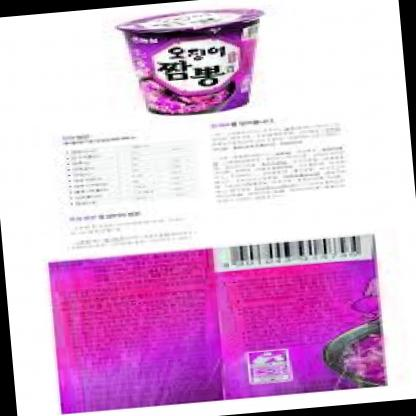Ramen: (108, 0, 286, 120)
